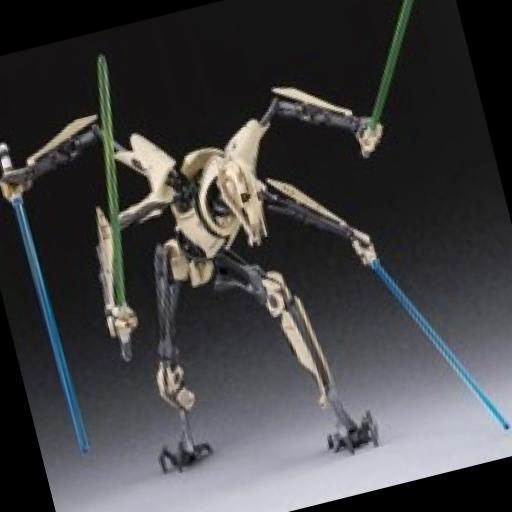lightsaber: (48, 53, 182, 366), (352, 206, 510, 452), (0, 137, 93, 454), (321, 0, 456, 161)
